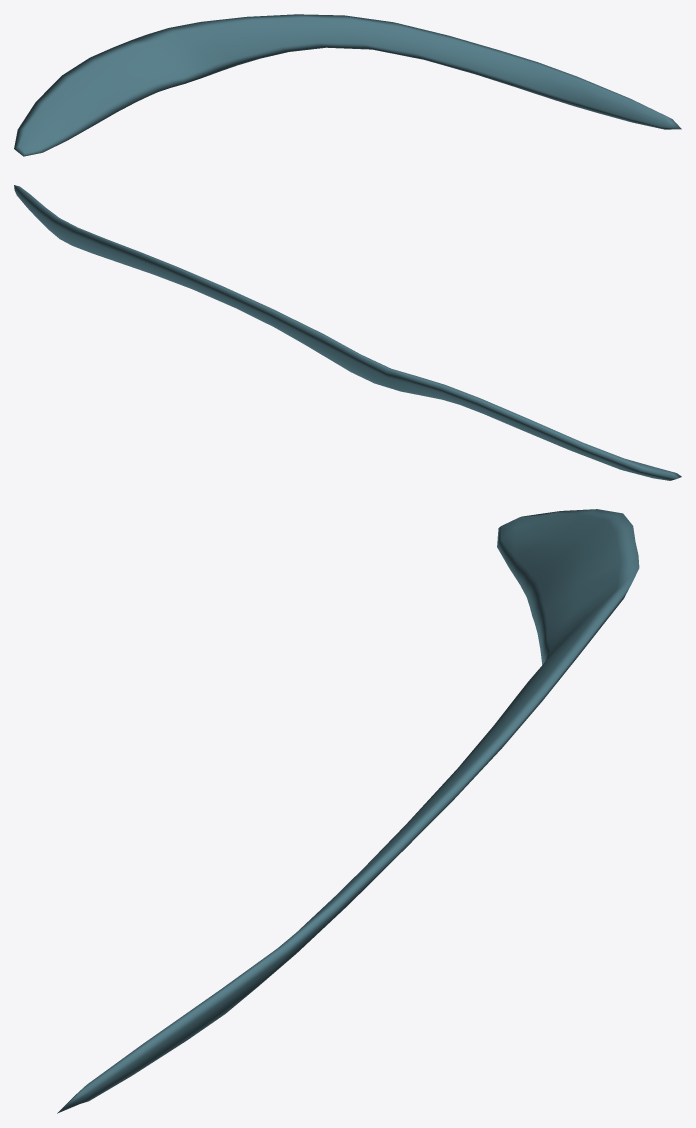
Rendered from Ascending_part_of_trapezius_muscle-Occipital_insertion.l_Genera.glb.
3 renders of one model, top to bottom at view 1: azimuth 30°, elevation 25°; view 2: azimuth 150°, elevation 25°; view 3: azimuth 270°, elevation 25°, orthographic. The views are drawn at different scales.
Parts seen in each view (by area): view 1: Ascending_part_of_trapezius_muscle-Occipital_insertion.l_Gen; view 2: Ascending_part_of_trapezius_muscle-Occipital_insertion.l_Gen; view 3: Ascending_part_of_trapezius_muscle-Occipital_insertion.l_Gen.
Part boxes in pixels (x1,y1,x2,y2): Ascending_part_of_trapezius_muscle-Occipital_insertion.l_Gen: (14,14,681,156); Ascending_part_of_trapezius_muscle-Occipital_insertion.l_Gen: (14,185,681,480); Ascending_part_of_trapezius_muscle-Occipital_insertion.l_Gen: (57,509,639,1113).
Size of the model in its own units: 0.0371 by 0.00581 by 0.017.
